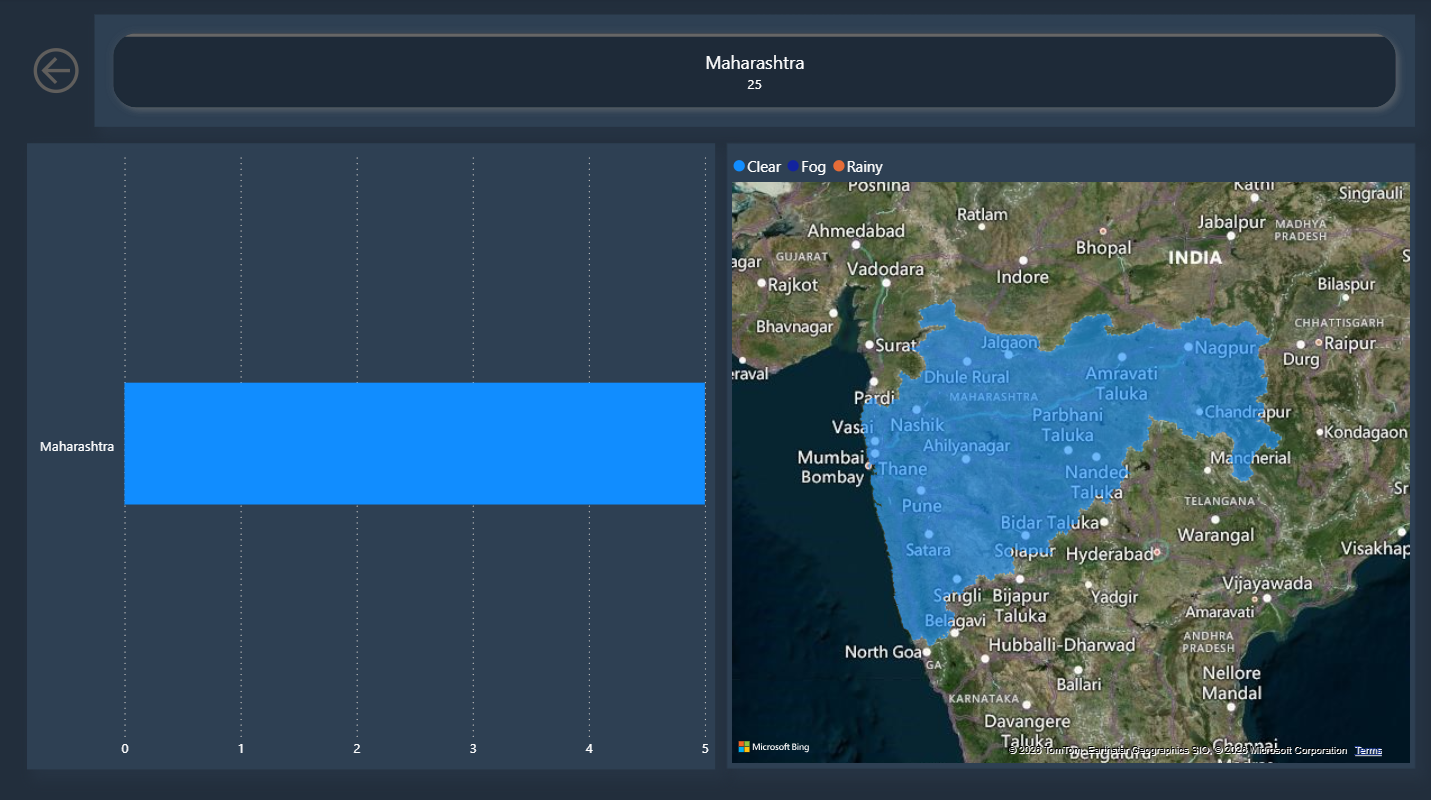

This screenshot's page, from the dashboard's own definition file:
{"tool":"powerbi","page":{"name":"Page 2","canvas":[1280,720],"ordinal":1},"visuals":[{"type":"clusteredBarChart","fields":{"Category":["Road_Accident_Dataset.State"],"Y":["Road_Accident_Dataset.Total Deaths"]},"box":[26.5,130.3,612.9,557.4],"z":0},{"type":"actionButton","box":[26.5,15.7,51.9,100.1],"z":1},{"type":"filledMap","fields":{"Series":["Road_Accident_Dataset.Weather"],"Category":["Road_Accident_Dataset.State"]},"box":[650,130,613,557],"z":2},{"type":"advancedSlicerVisual","fields":{"Label":["Sum(Road_Accident_Dataset.Casualties)"],"Values":["Road_Accident_Dataset.State"]},"box":[86.9,15.7,1176.3,100.1],"z":3}]}

Visuals, with their boxes on the page's 1280x720 design canvas (x1, y1, x2, y2). These are canvas units, not pixel positions in the 1431x800 screenshot, which may show the page scaled, cropped or inside an application window:
clusteredBarChart - Road_Accident_Dataset.State x Road_Accident_Dataset.Total Deaths: (26,130,639,688)
actionButton: (26,16,78,116)
filledMap - Road_Accident_Dataset.Weather x Road_Accident_Dataset.State: (650,130,1263,687)
advancedSlicerVisual - Sum(Road_Accident_Dataset.Casualties) x Road_Accident_Dataset.State: (87,16,1263,116)
